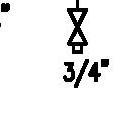verticalvalve: (66, 8, 87, 46)
